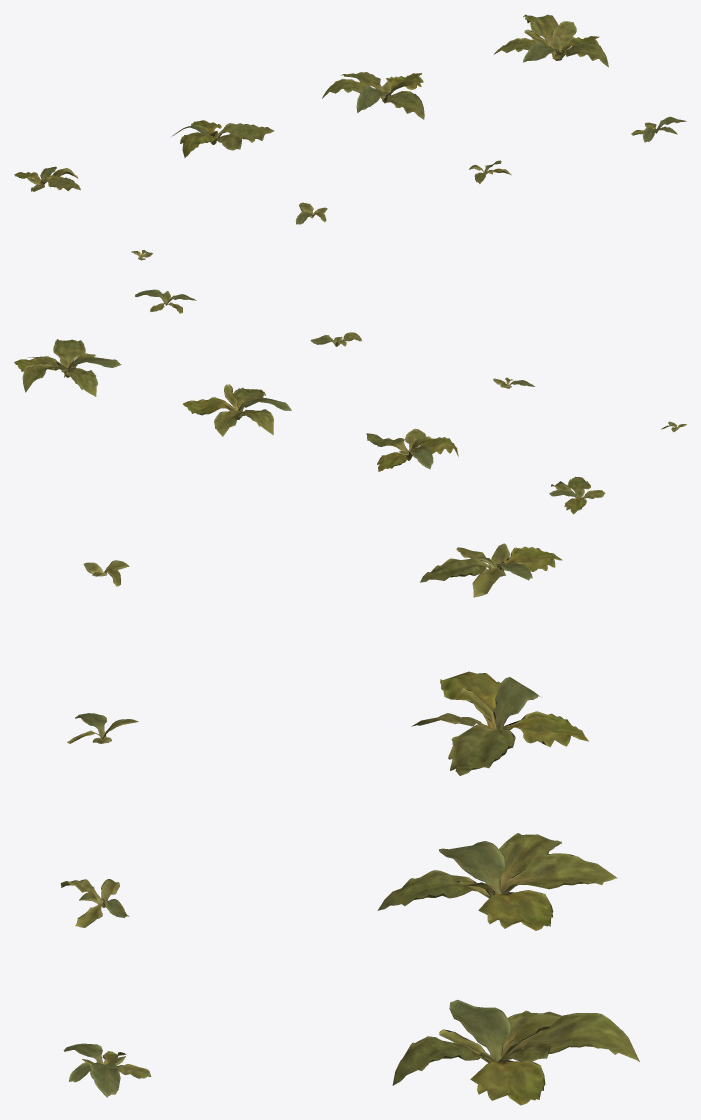
File: crystalline_iceplant.glb
3 views of the same model, one above another, from view 1: azimuth 30°, elevation 25°; view 2: azimuth 150°, elevation 25°; view 3: azimuth 270°, elevation 25° (orthographic). The views are drawn at different scales.
Parts seen in each view (by area): view 1: crystalline_iceplant_a_LOD0, crystalline_iceplant_b_LOD0, crystalline_iceplant_c_LOD0, crystalline_iceplant_d_LOD0, crystalline_iceplant_e_LOD0, crystalline_iceplant_g_LOD0; view 2: crystalline_iceplant_a_LOD0, crystalline_iceplant_b_LOD0, crystalline_iceplant_c_LOD0, crystalline_iceplant_d_LOD0, crystalline_iceplant_e_LOD0, crystalline_iceplant_f_LOD0; view 3: crystalline_iceplant_a_LOD0, crystalline_iceplant_b_LOD0, crystalline_iceplant_c_LOD0, crystalline_iceplant_d_LOD0, crystalline_iceplant_e_LOD0, crystalline_iceplant_f_LOD0.
Part boxes in pixels (x1,y1,x2,y2): crystalline_iceplant_a_LOD0: [493, 14, 608, 67]; crystalline_iceplant_b_LOD0: [322, 72, 424, 119]; crystalline_iceplant_c_LOD0: [171, 120, 274, 157]; crystalline_iceplant_d_LOD0: [14, 166, 80, 191]; crystalline_iceplant_e_LOD0: [631, 116, 686, 142]; crystalline_iceplant_g_LOD0: [296, 202, 327, 224]; crystalline_iceplant_a_LOD0: [14, 339, 121, 396]; crystalline_iceplant_b_LOD0: [183, 384, 291, 436]; crystalline_iceplant_c_LOD0: [366, 428, 458, 471]; crystalline_iceplant_d_LOD0: [549, 476, 605, 514]; crystalline_iceplant_e_LOD0: [135, 289, 196, 313]; crystalline_iceplant_f_LOD0: [310, 332, 361, 346]; crystalline_iceplant_a_LOD0: [392, 999, 639, 1105]; crystalline_iceplant_b_LOD0: [377, 833, 617, 930]; crystalline_iceplant_c_LOD0: [411, 671, 588, 775]; crystalline_iceplant_d_LOD0: [420, 543, 562, 597]; crystalline_iceplant_e_LOD0: [63, 1043, 151, 1097]; crystalline_iceplant_f_LOD0: [60, 879, 129, 927].
Size of the model in its own units: 1.69 by 0.0822 by 0.7379.
1 material, 1 textured.
